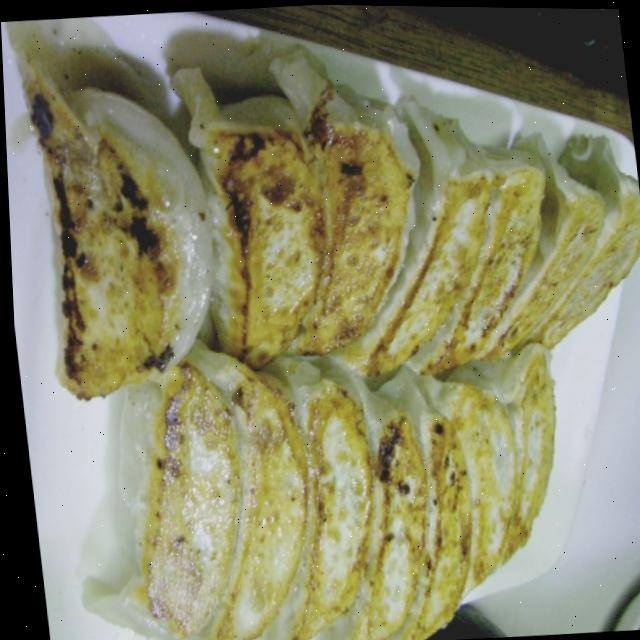带馅早点: (2, 47, 640, 640)
